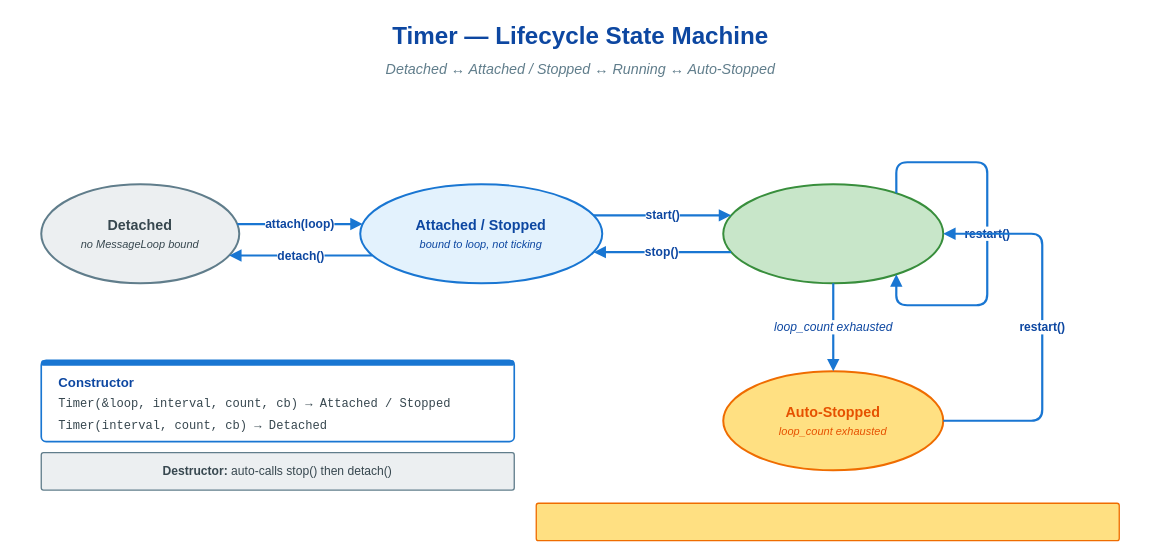
Some shapes in this 1159 by 560 pixel diagram are drawn without their labels. The centre of each missing label's shape, as x and y in pixels:
Running ticking at interval: pixel 833 233
Strict mode: catch-up missed ticks · Non-strict: drop missed ticks: pixel 827 521
